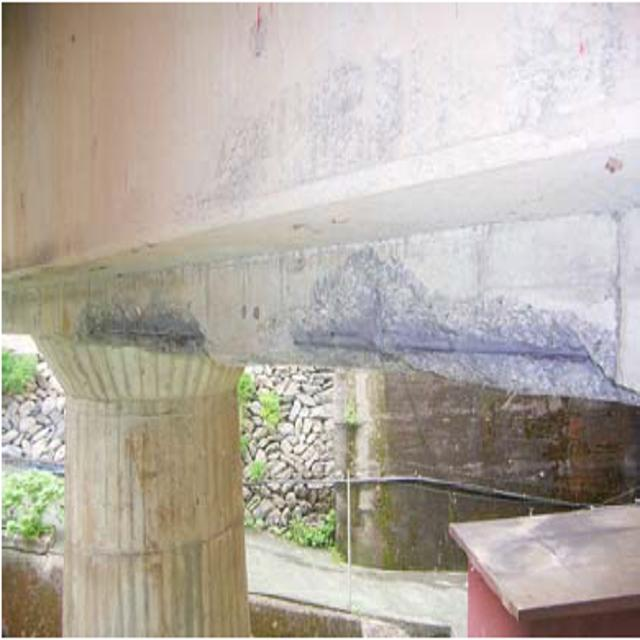spalling: (284, 242, 637, 404), (64, 292, 243, 377)
